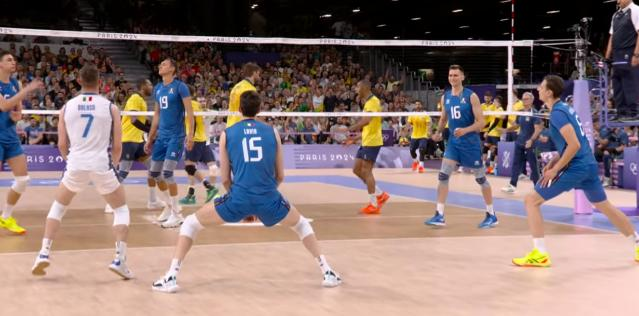Levantador: (528, 75, 639, 285), (184, 83, 202, 199)
Libero: (30, 61, 128, 276), (198, 91, 220, 142)
